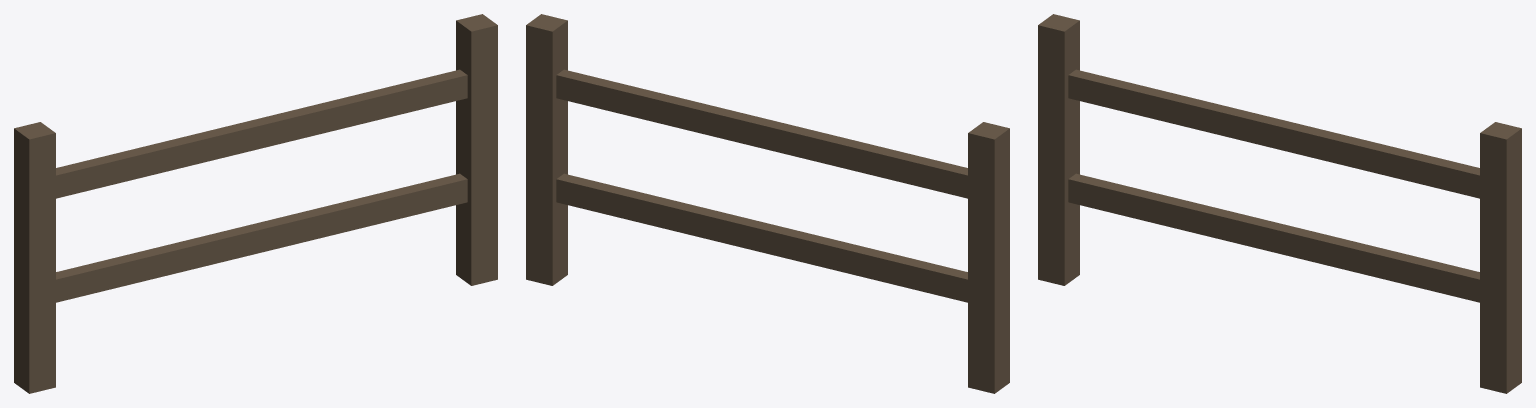
The model's file is ENV_Fence_A.glb.
3 renders of one model, left to right at view 1: azimuth 30°, elevation 25°; view 2: azimuth 150°, elevation 25°; view 3: azimuth 330°, elevation 25°, orthographic.
Visible parts, largest first — view 1: ENV_Fence_A_Rail1, ENV_Fence_A_Rail0, ENV_Fence_A_Post0, ENV_Fence_A_Post1; view 2: ENV_Fence_A_Rail1, ENV_Fence_A_Rail0, ENV_Fence_A_Post0, ENV_Fence_A_Post1; view 3: ENV_Fence_A_Rail1, ENV_Fence_A_Rail0, ENV_Fence_A_Post1, ENV_Fence_A_Post0.
Boxes of the visible parts, x1,y1,x2,y2 form: ENV_Fence_A_Rail1: (56,69,467,198); ENV_Fence_A_Rail0: (56,173,467,302); ENV_Fence_A_Post0: (14,122,55,393); ENV_Fence_A_Post1: (456,14,497,285); ENV_Fence_A_Rail1: (556,69,967,198); ENV_Fence_A_Rail0: (556,173,967,302); ENV_Fence_A_Post0: (968,122,1009,393); ENV_Fence_A_Post1: (526,14,567,285); ENV_Fence_A_Rail1: (1068,69,1479,198); ENV_Fence_A_Rail0: (1068,173,1479,302); ENV_Fence_A_Post1: (1480,122,1521,393); ENV_Fence_A_Post0: (1038,14,1079,285).
Bounding box in the file's own units: 2.12 × 1.1 × 0.12.
